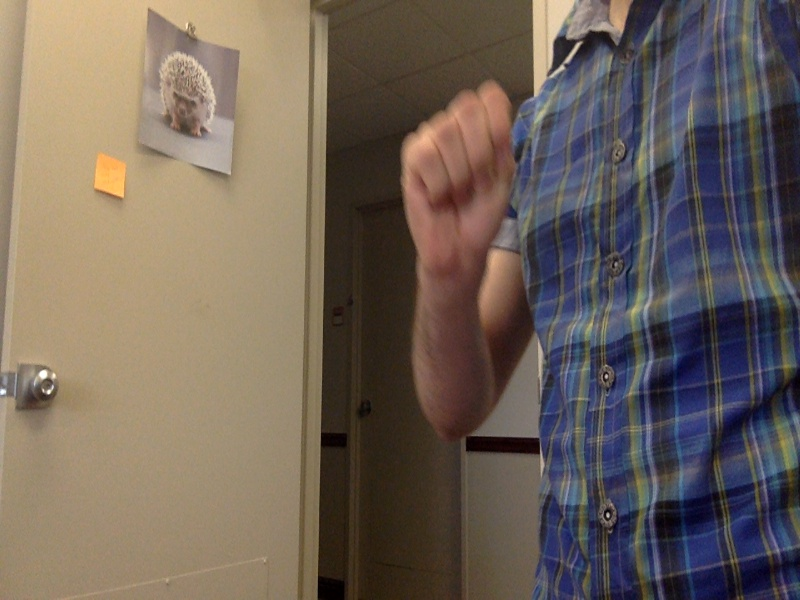0-hand: (396, 84, 523, 280)
